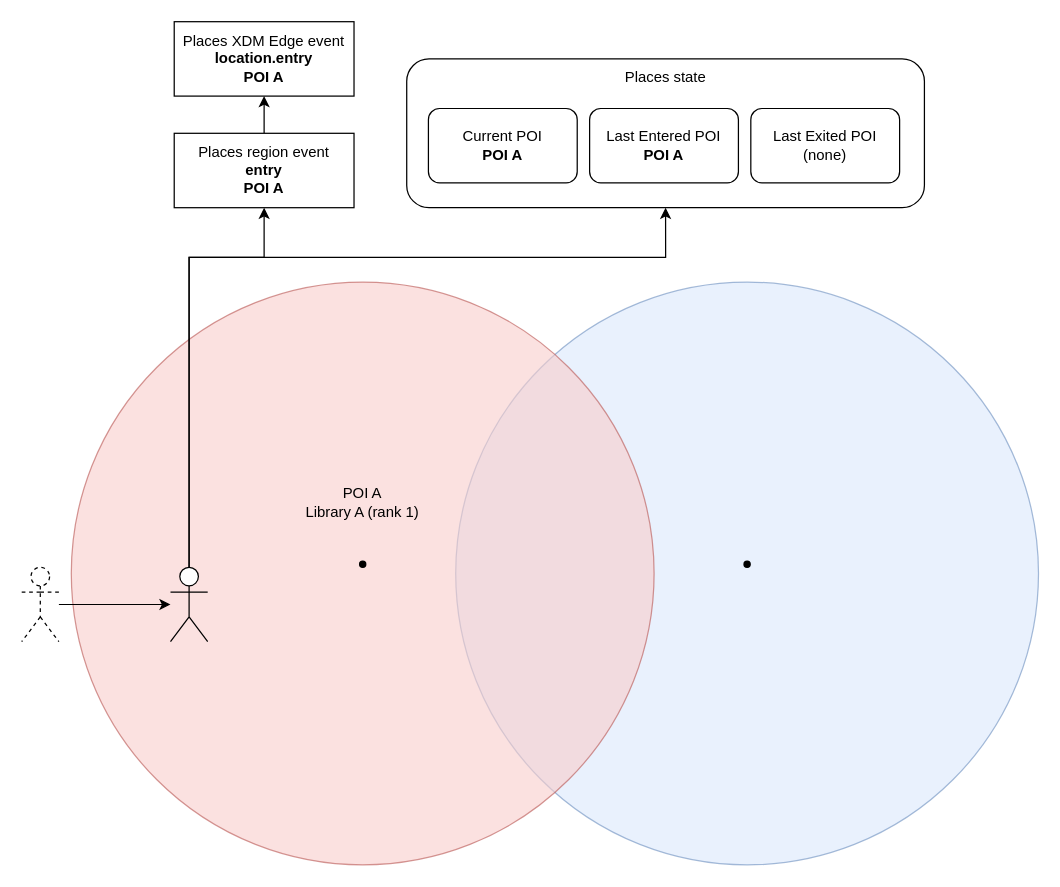
This 1060x887 diagram has some shape labels left out. The box of each missing label's shape, as (x1, y1, x2, y2) in pixels:
POI B Library B (rank 2): (454, 281, 1038, 865)
User: (169, 566, 208, 642)
